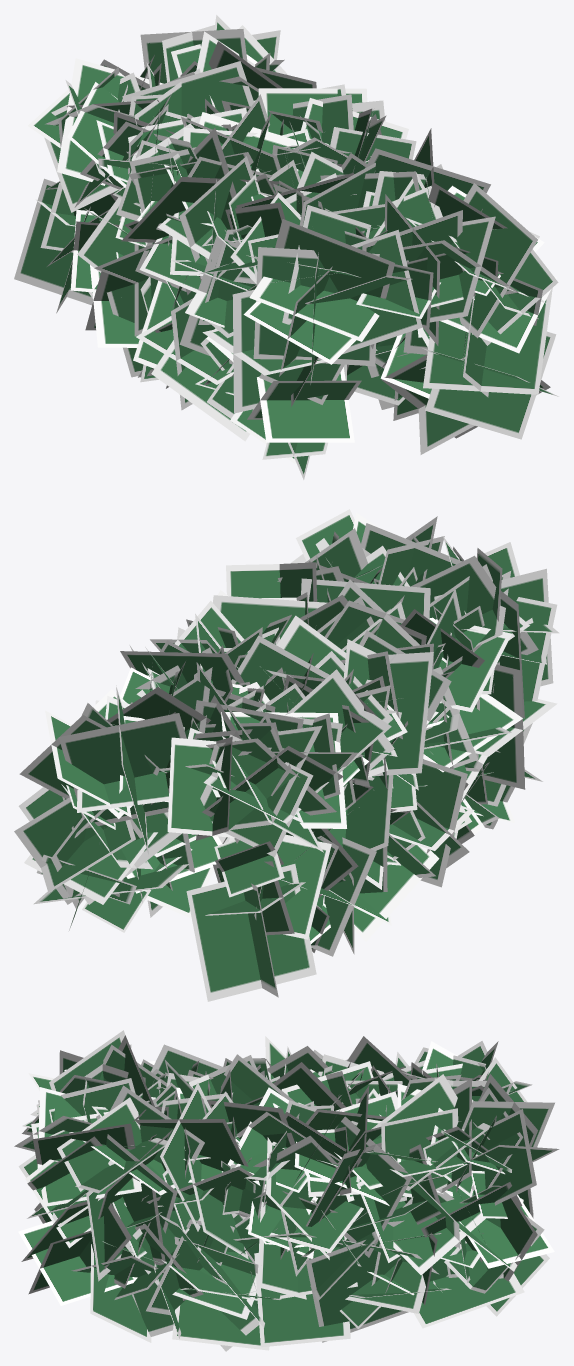
The model's file is bushes_test_04 (2).fbx.
3 renders of one model, top to bottom at view 1: azimuth 30°, elevation 25°; view 2: azimuth 150°, elevation 25°; view 3: azimuth 270°, elevation 25°, orthographic. The views are drawn at different scales.
Parts seen in each view (by area): view 1: leaf.004; view 2: leaf.004; view 3: leaf.004.
Part boxes in pixels (<box>): leaf.004: <box>14,15,558,479</box>; leaf.004: <box>14,509,559,1001</box>; leaf.004: <box>14,1030,559,1351</box>.
Size of the model in its own units: 206 by 184 by 370.
